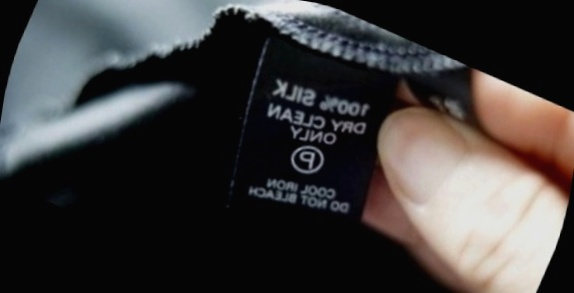dry_clean_any_solvent_except_trichloroethylene: (280, 133, 334, 184)
